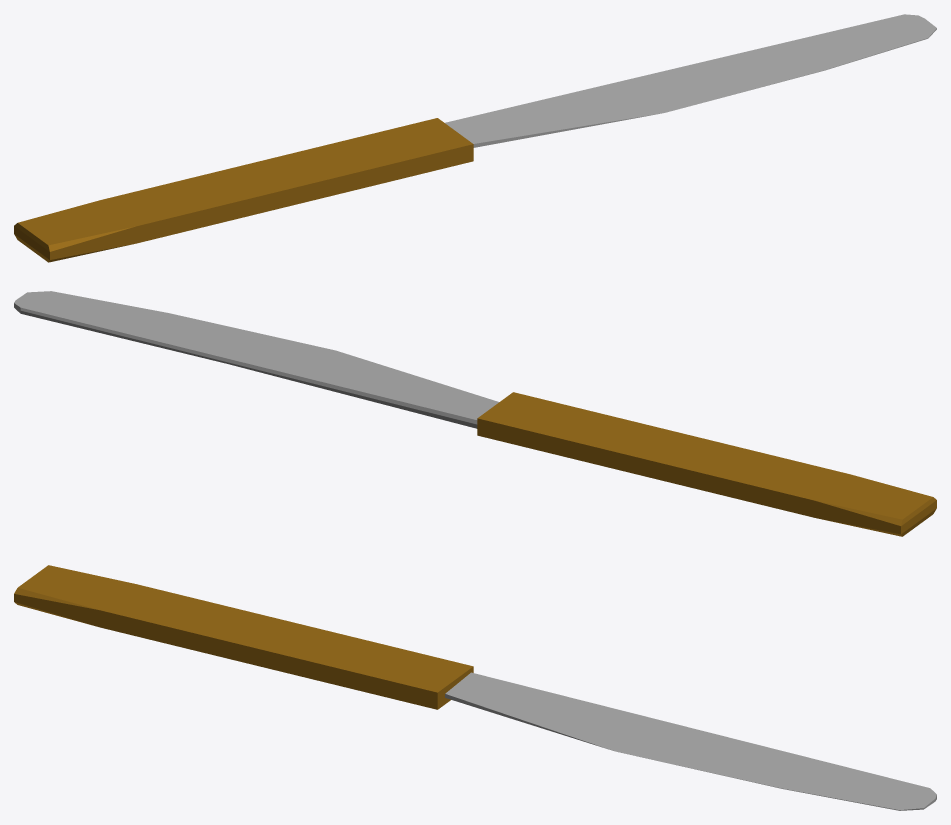
Rendered from tableknife01.gltf.
The picture shows the model from 3 angles, top to bottom: view 1: azimuth 30°, elevation 25°; view 2: azimuth 150°, elevation 25°; view 3: azimuth 330°, elevation 25°; orthographic projection.
Visible parts, largest first — view 1: Cube; view 2: Cube; view 3: Cube.
Part boxes in pixels (bbox=[...]): Cube: bbox=[14, 14, 936, 262]; Cube: bbox=[14, 291, 936, 536]; Cube: bbox=[14, 565, 936, 810].
Bounding box in the file's own units: 0.2071 × 0.0038 × 0.0172.
Materials: 1 (1 with a texture image).
